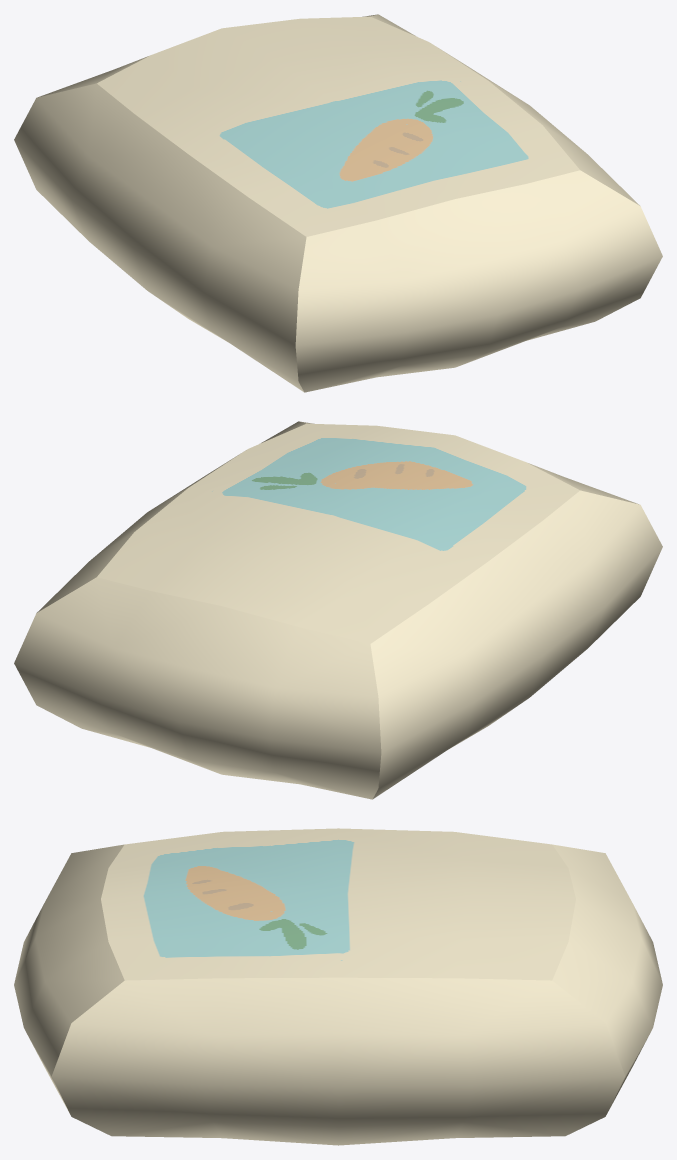
File: seedsCarrot.fbx
The picture shows the model from 3 angles, top to bottom: view 1: azimuth 30°, elevation 25°; view 2: azimuth 150°, elevation 25°; view 3: azimuth 270°, elevation 25°; orthographic projection.
Visible parts, largest first — view 1: Cube.001; view 2: Cube.001; view 3: Cube.001.
Boxes of the visible parts, x1,y1,x2,y2 form: Cube.001: [14, 14, 662, 392]; Cube.001: [14, 421, 662, 799]; Cube.001: [14, 828, 662, 1145].
Bounding box in the file's own units: 104 × 50.54 × 140.
1 material, 1 textured.
